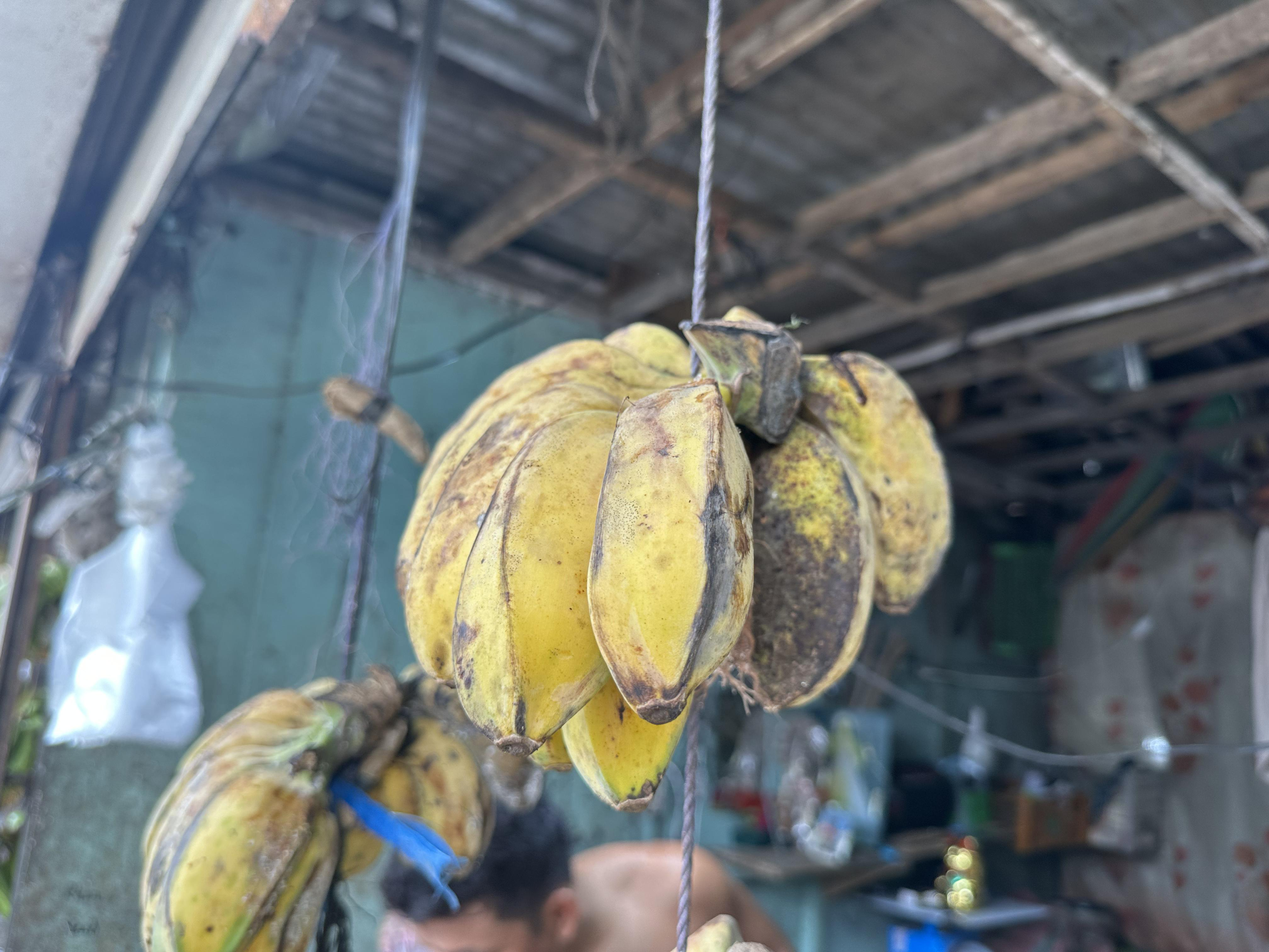underripe: (396, 323, 952, 814)
